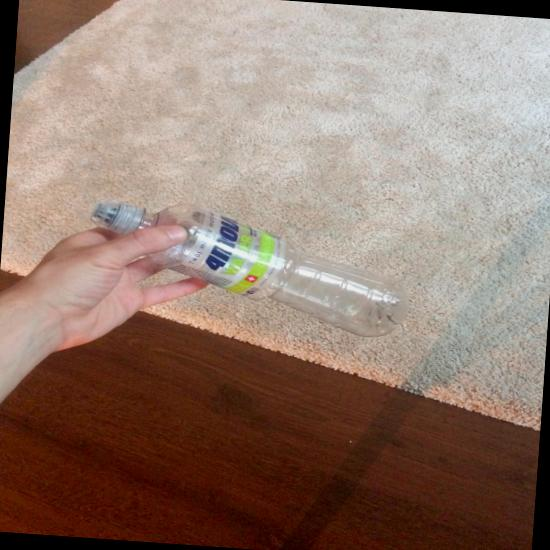Clear plastic bottle: (89, 199, 409, 337)
